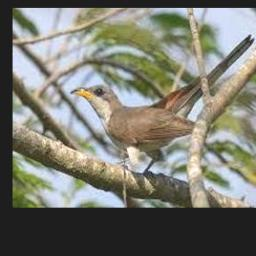Cuckoo: (69, 34, 254, 176)
